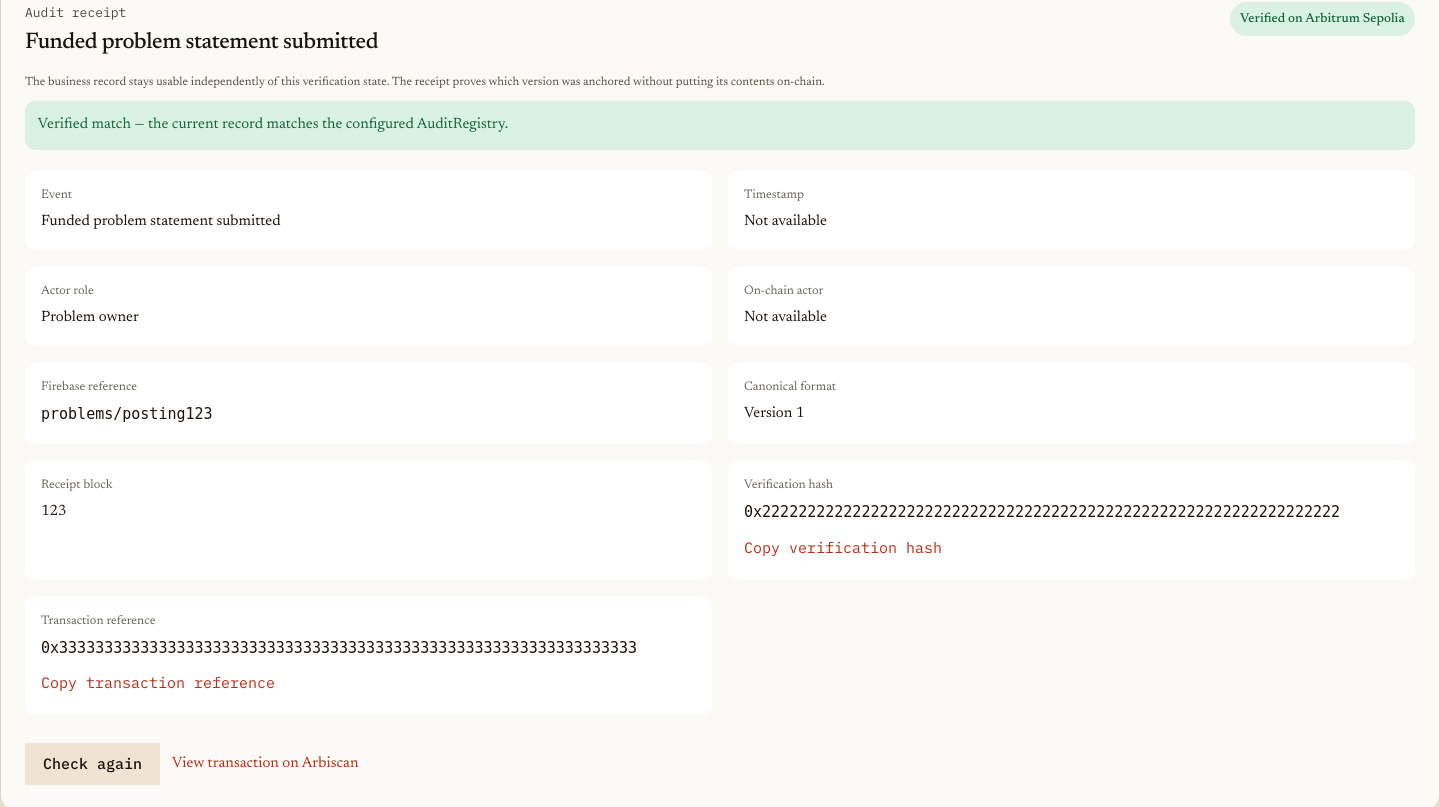
Test: AuditReceipt › [QCDAO-78] reports a verified match and a prominent mismatch
The width and height of the screenshot is (1440, 807).
(page scrolled)
Expected: the text "Verified match" is shown, [38,117,508,132]
Click the button "Check again".
click(92, 764)  # box [25,743,160,785]
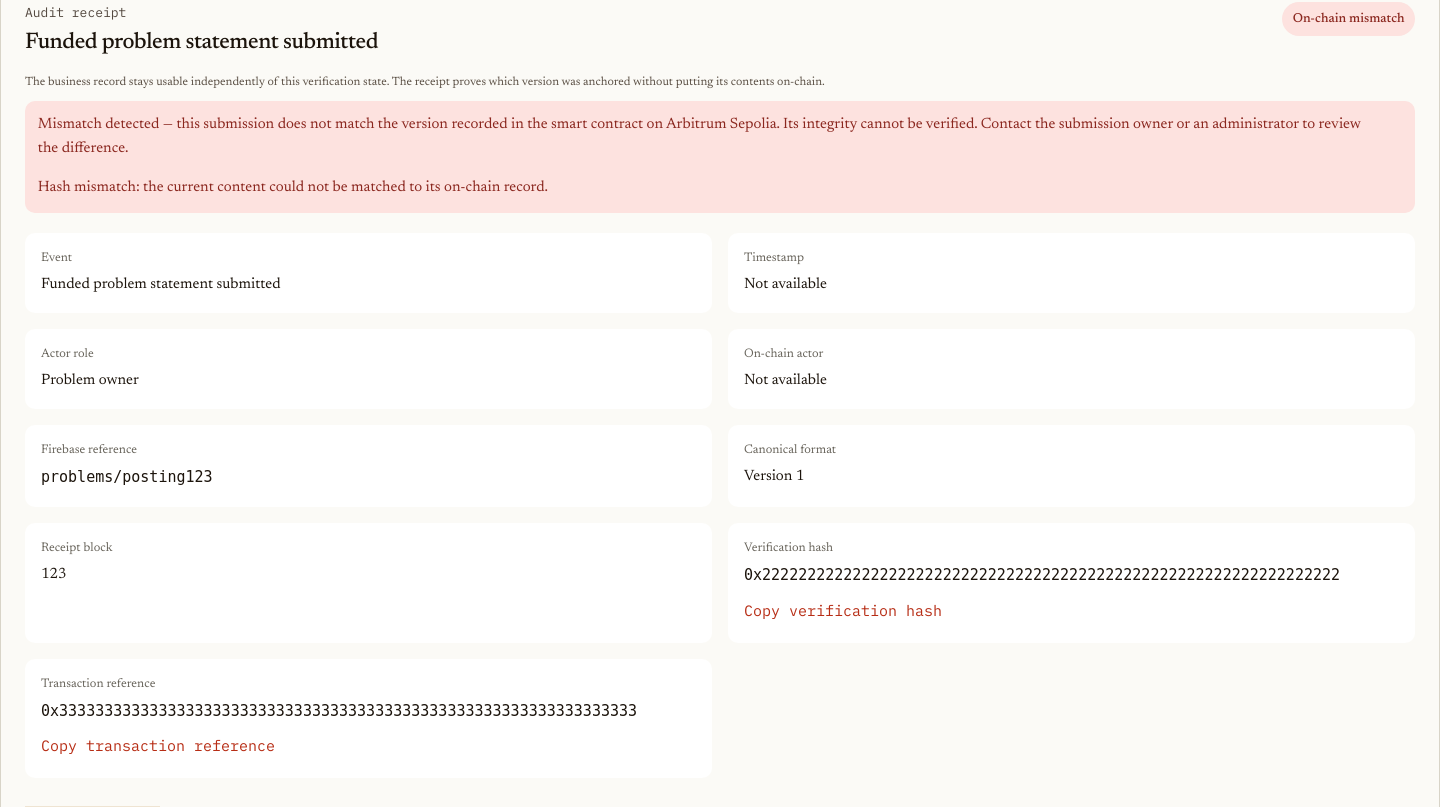
Result: the message shows "does not match the version recorded in the smart contract on Arbitrum Sepolia" at [38,117,1361,156]
Result: the message shows "Contact the submission owner or an administrator" at [38,117,1361,156]
